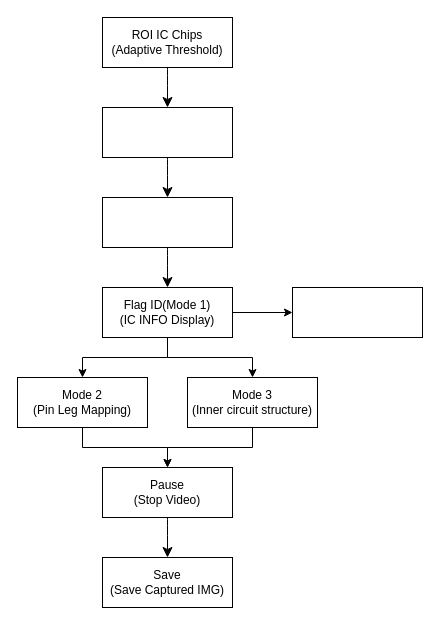
Image size: 440x625. Some labels were removed from this diagram. The centre of each missing label's shape, as x and y in pixels:
Mode 4 (Open Datasheet PDF): pixel 357 312
OCR Detecting (Letter Matching Score): pixel 167 222
Pre-Processing ROI (Gaussian/Brightness): pixel 167 132
